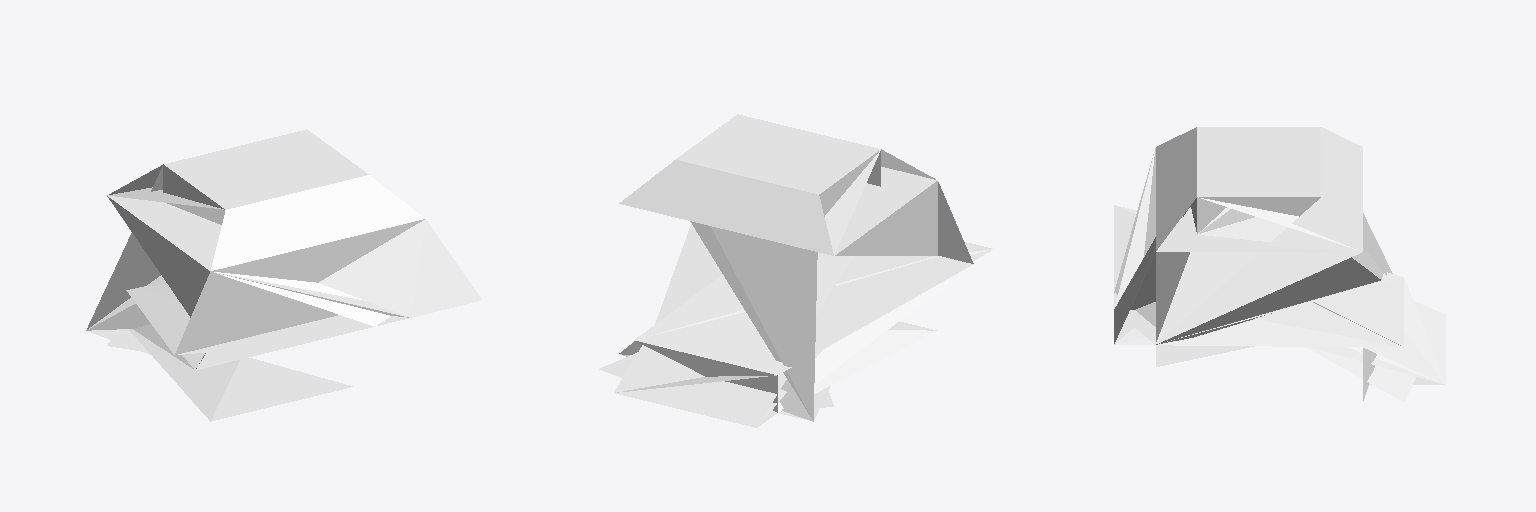
Rendered from roshi.obj.
The picture shows the model from 3 angles: view 1: azimuth 30°, elevation 25°; view 2: azimuth 150°, elevation 25°; view 3: azimuth 270°, elevation 25°; orthographic projection.
Size of the model in its own units: 8 by 5 by 8.